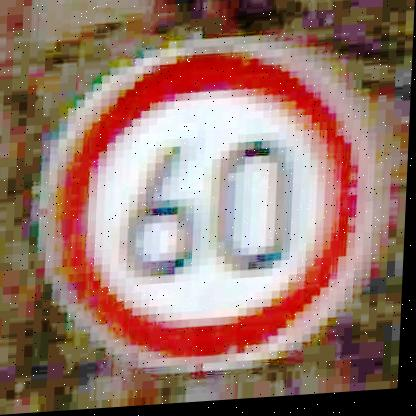Speed Limit -60-: (43, 34, 388, 385)
